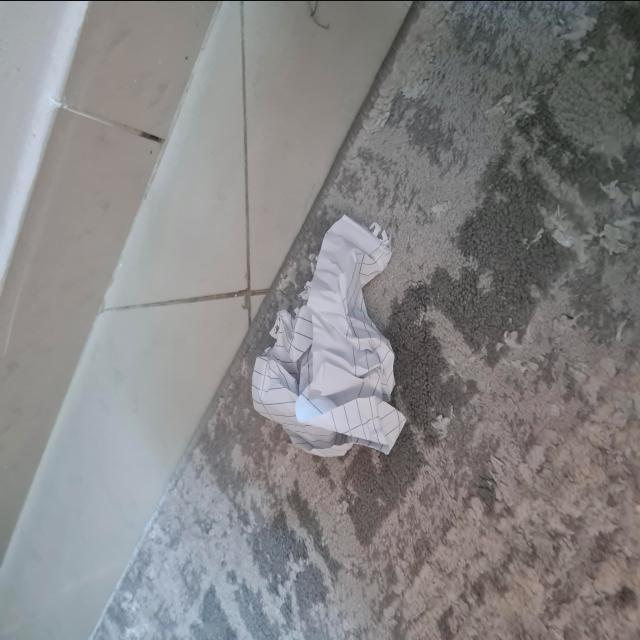Paper: (230, 212, 432, 468)
